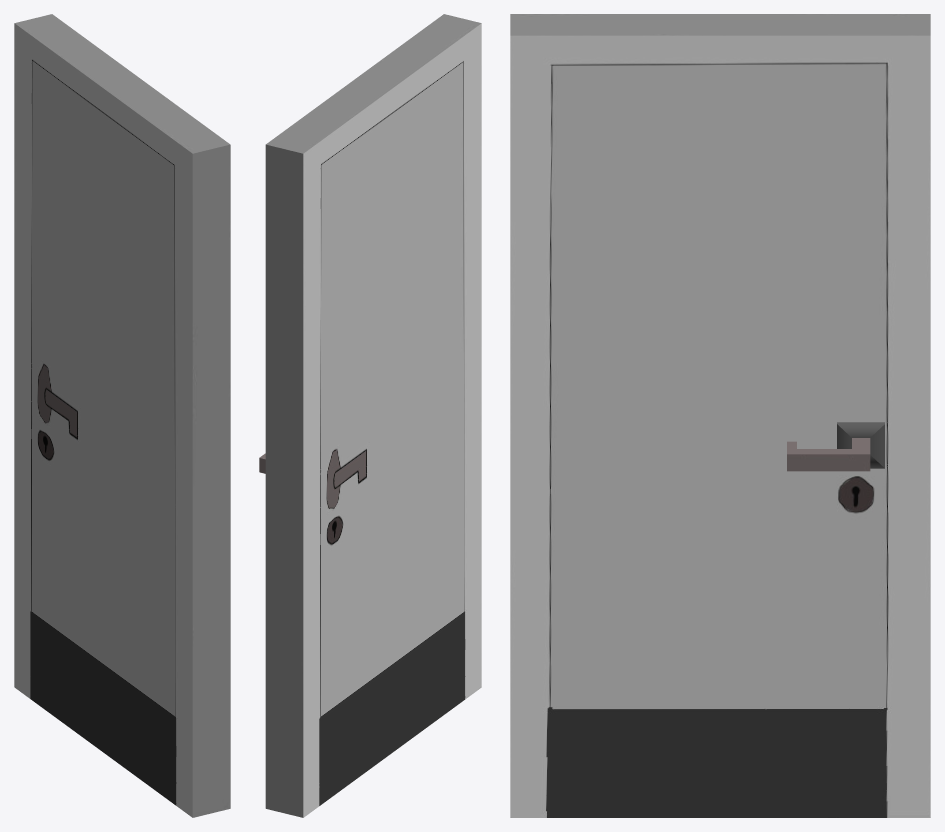
Rendered from Door_white.fbx.
3 renders of one model, left to right at view 1: azimuth 30°, elevation 25°; view 2: azimuth 150°, elevation 25°; view 3: azimuth 270°, elevation 25°, orthographic. The views are drawn at different scales.
Visible parts, largest first — view 1: Door_white; view 2: Door_white; view 3: Door_white.
Part boxes in pixels (<box>): Door_white: <box>14,14,230,817</box>; Door_white: <box>259,14,481,817</box>; Door_white: <box>510,14,930,817</box>.
Bounding box in the file's own units: 7.61 × 69.21 × 33.68.
1 material, 1 textured.
